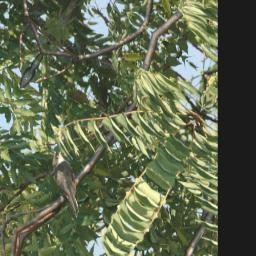Cuckoo: (33, 146, 102, 222)
